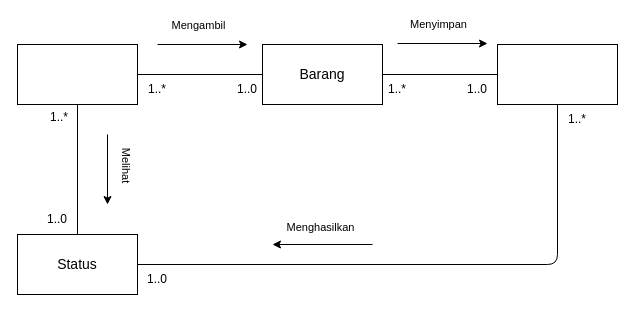
Some shapes in this 635 by 312 pixel diagram are drawn without their labels. Each missing label, with the box of its shape:
Monitoring: (496, 44, 618, 104)
User: (16, 44, 138, 104)
